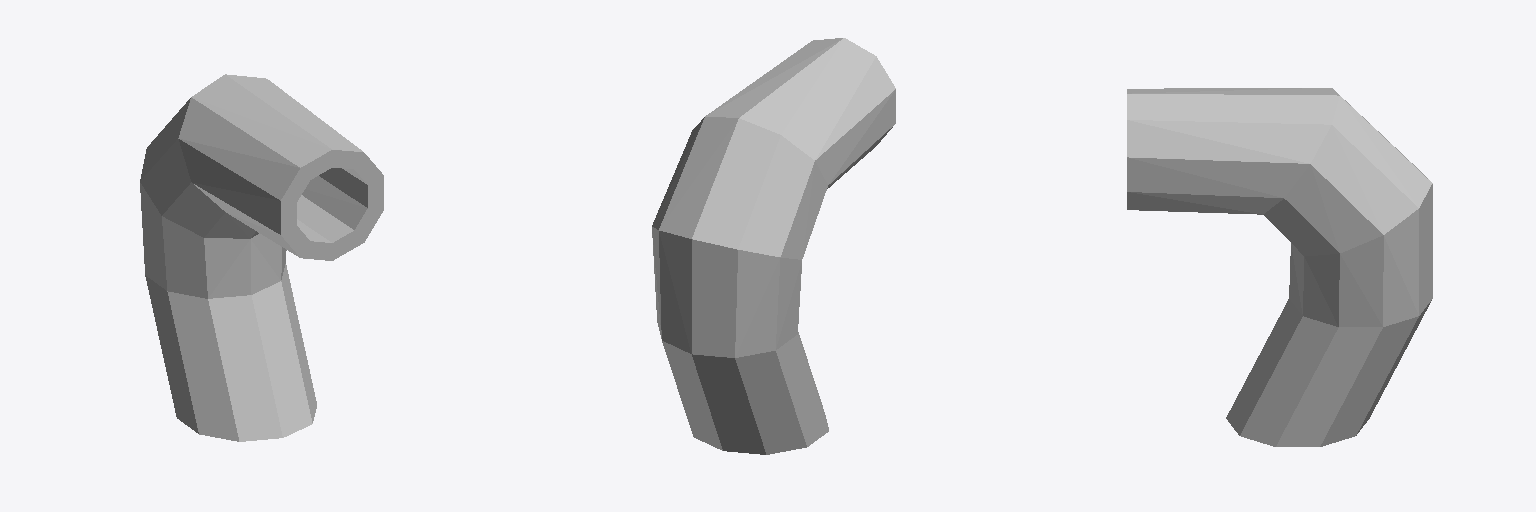
The model's file is turret.obj.
3 views of the same model, side by side, from view 1: azimuth 30°, elevation 25°; view 2: azimuth 150°, elevation 25°; view 3: azimuth 270°, elevation 25° (orthographic).
Parts seen in each view (by area): view 1: Cube; view 2: Cube; view 3: Cube.
Part boxes in pixels (x1,y1,x2,y2): Cube: (140,74,383,441); Cube: (652,38,895,454); Cube: (1127,88,1432,446).
Bounding box in the file's own units: 2.06 × 4.98 × 4.25.